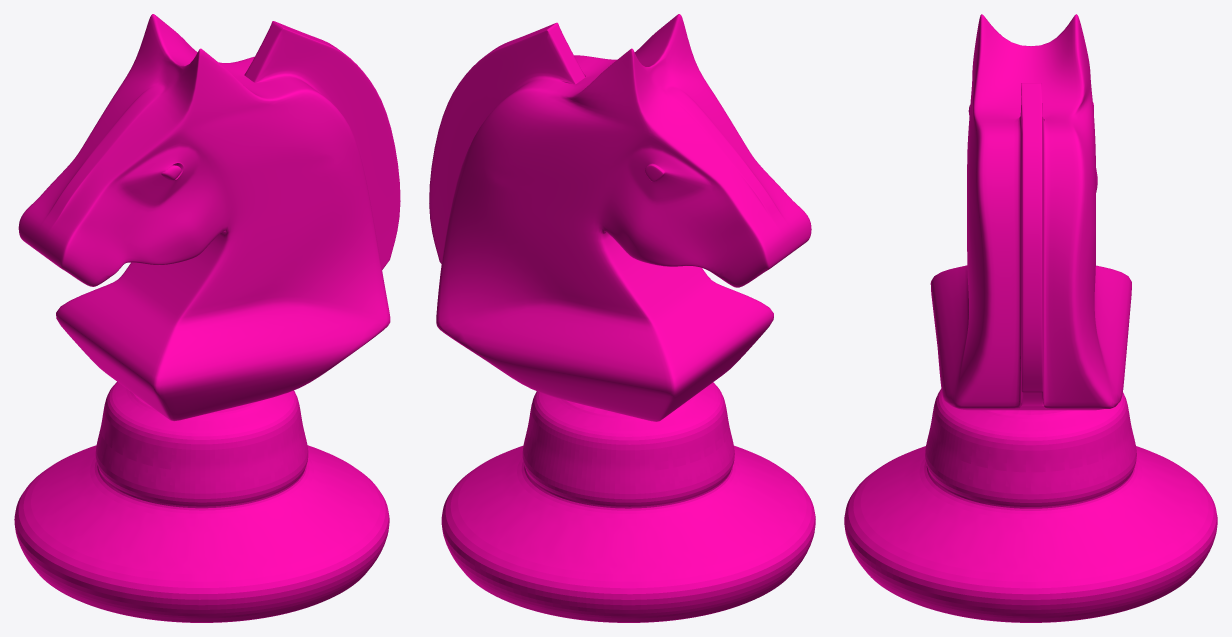
Rendered from Knight.fbx.
The picture shows the model from 3 angles, left to right: view 1: azimuth 30°, elevation 25°; view 2: azimuth 150°, elevation 25°; view 3: azimuth 270°, elevation 25°; orthographic projection.
Parts seen in each view (by area): view 1: Knight; view 2: Knight; view 3: Knight.
Part boxes in pixels (box(x1,y1,x2,y2)): Knight: box(14, 14, 400, 622); Knight: box(429, 14, 815, 622); Knight: box(844, 14, 1217, 622).
Bounding box in the file's own units: 59.23 × 84.08 × 53.91.
